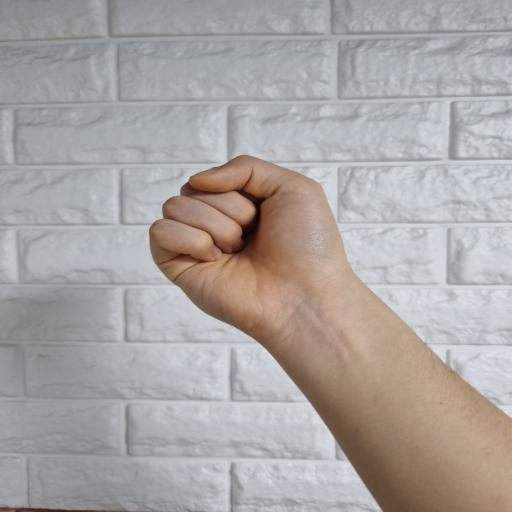Rock: (149, 154, 368, 348)
